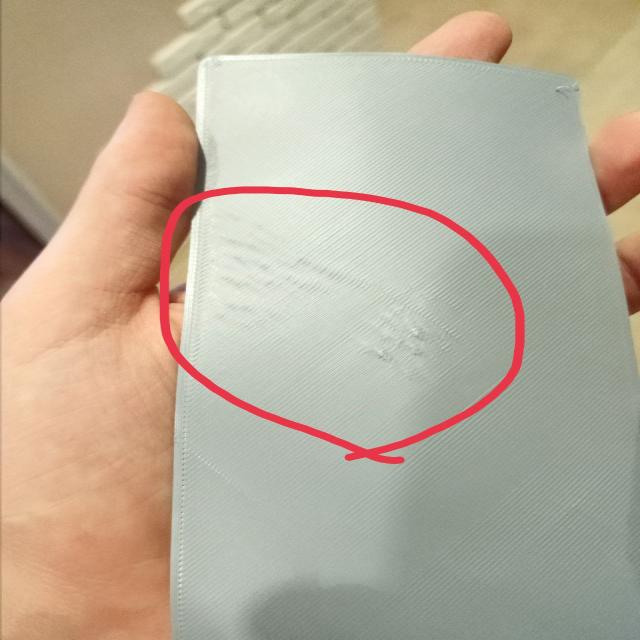blobs: (370, 314, 438, 372)
